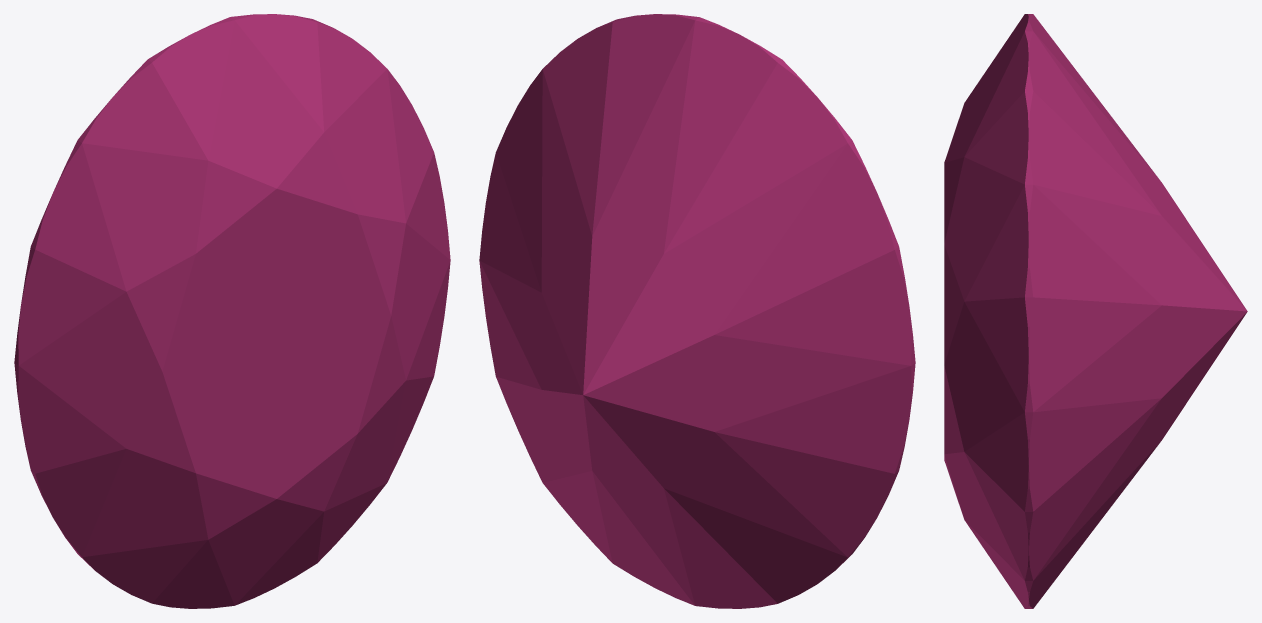
The model's file is ava.glb.
3 views of the same model, side by side, from view 1: azimuth 30°, elevation 25°; view 2: azimuth 150°, elevation 25°; view 3: azimuth 270°, elevation 25° (orthographic). The views are drawn at different scales.
Parts seen in each view (by area): view 1: Ava; view 2: Ava; view 3: Ava.
Boxes of the visible parts, x1,y1,x2,y2 form: Ava: (14,14,450,608); Ava: (479,14,915,608); Ava: (944,14,1247,608).
Bounding box in the file's own units: 1.92 × 2.49 × 1.22.
